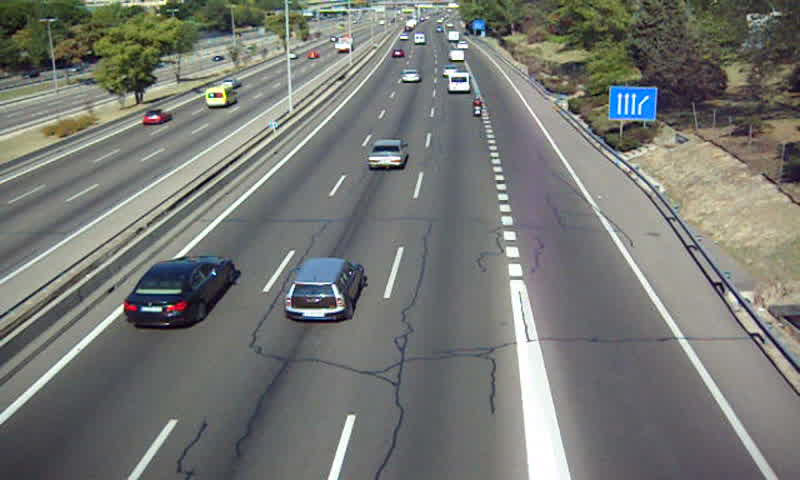car: (122, 256, 234, 326), (284, 258, 366, 323), (367, 139, 407, 169), (401, 68, 420, 83), (442, 64, 457, 78)
motorcycle: (472, 96, 484, 116)
van: (448, 71, 470, 93), (450, 50, 466, 62)
